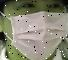with_mask: (2, 2, 68, 60)
